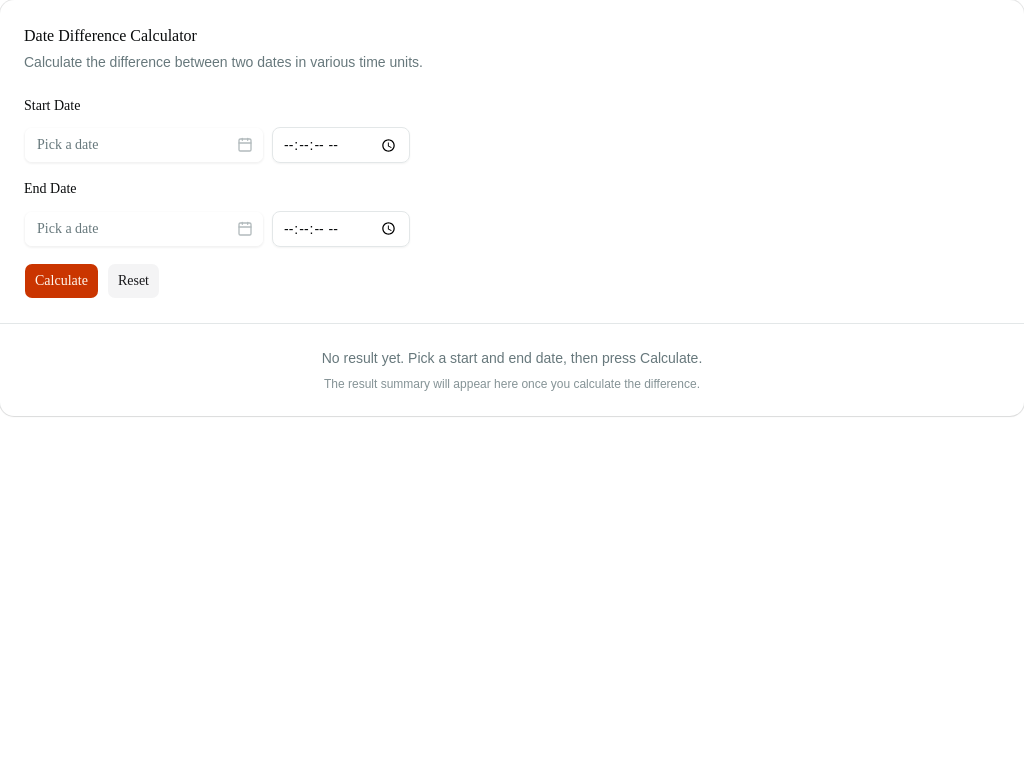
Scenario: DateDifference › onSubmit success › shows zero duration for same day selected twice
Step 1. Click the button with id "calendar-startDate" → (144, 145), box [24, 127, 264, 163]
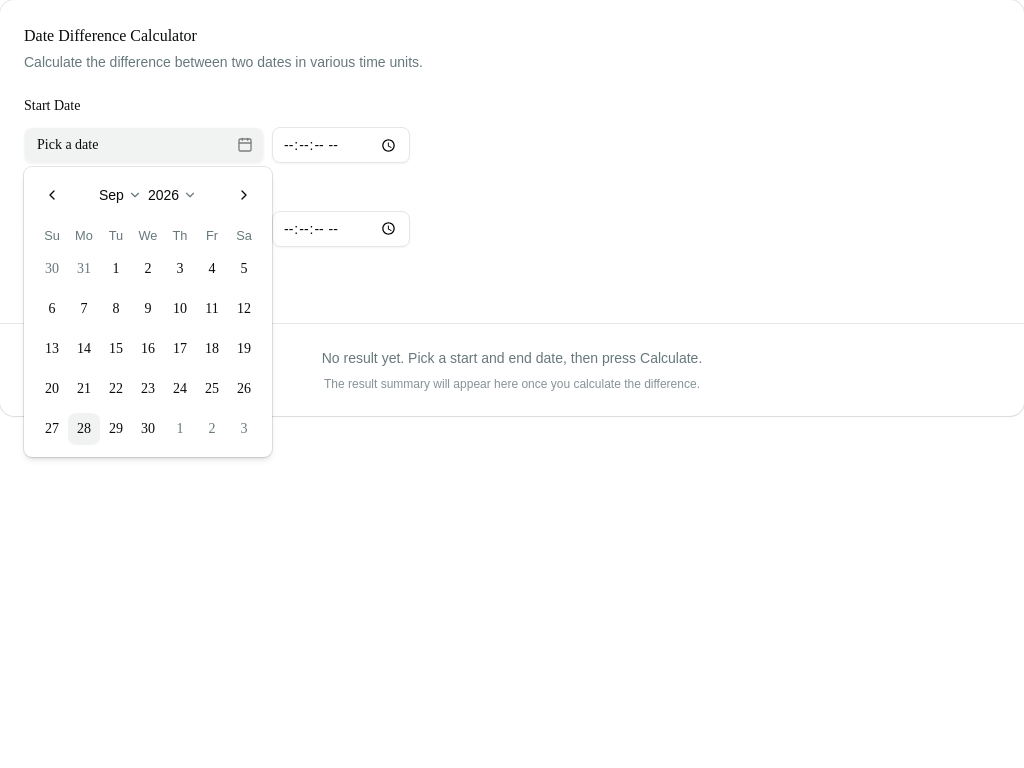
Step 2. Click the 1st button "30" → (52, 269), box [36, 253, 68, 285]
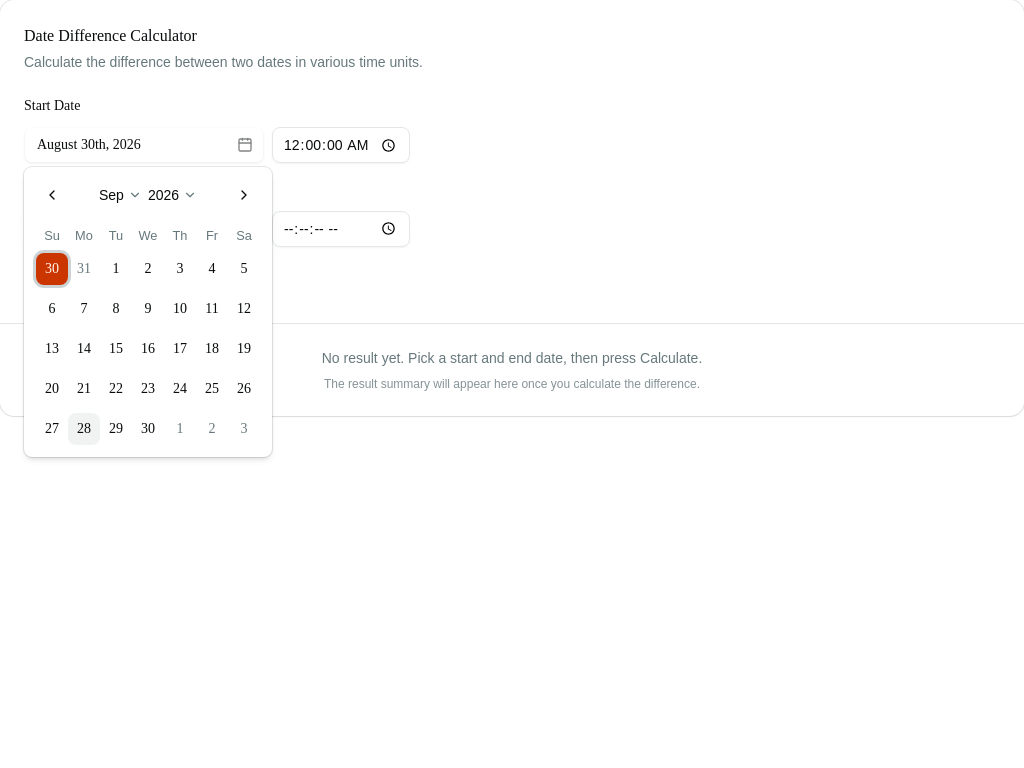
Step 3. Click the button with id "calendar-endDate" → (144, 228), box [24, 210, 264, 246]
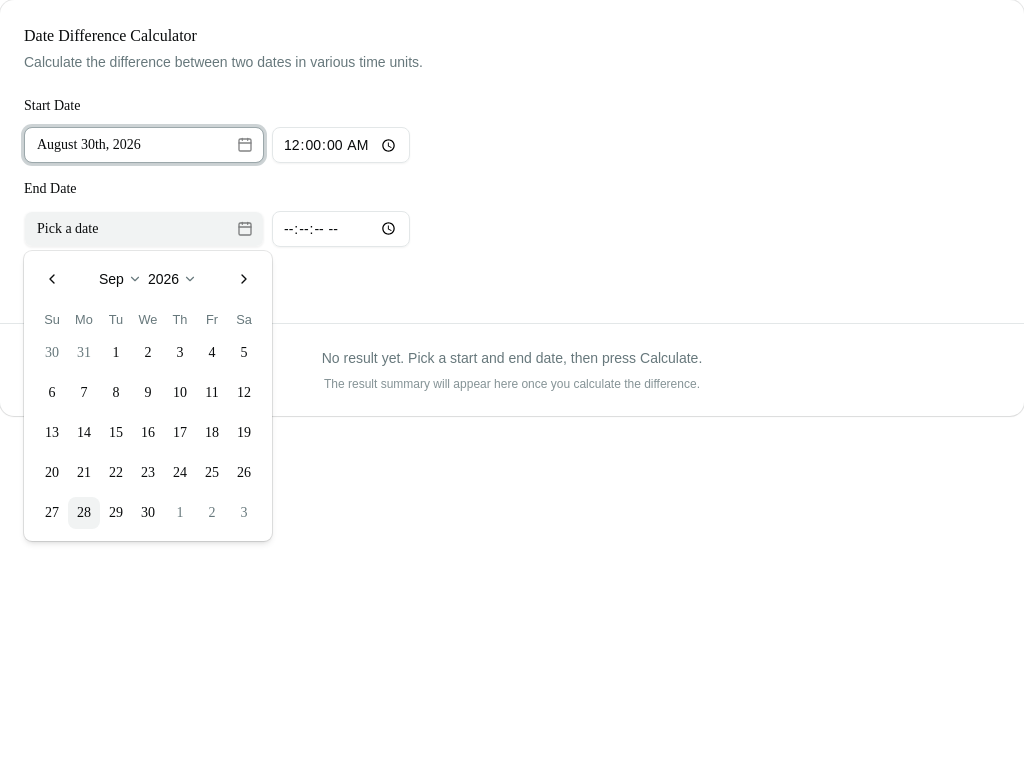
Step 4. Click the 1st button "30" → (52, 353), box [36, 337, 68, 369]
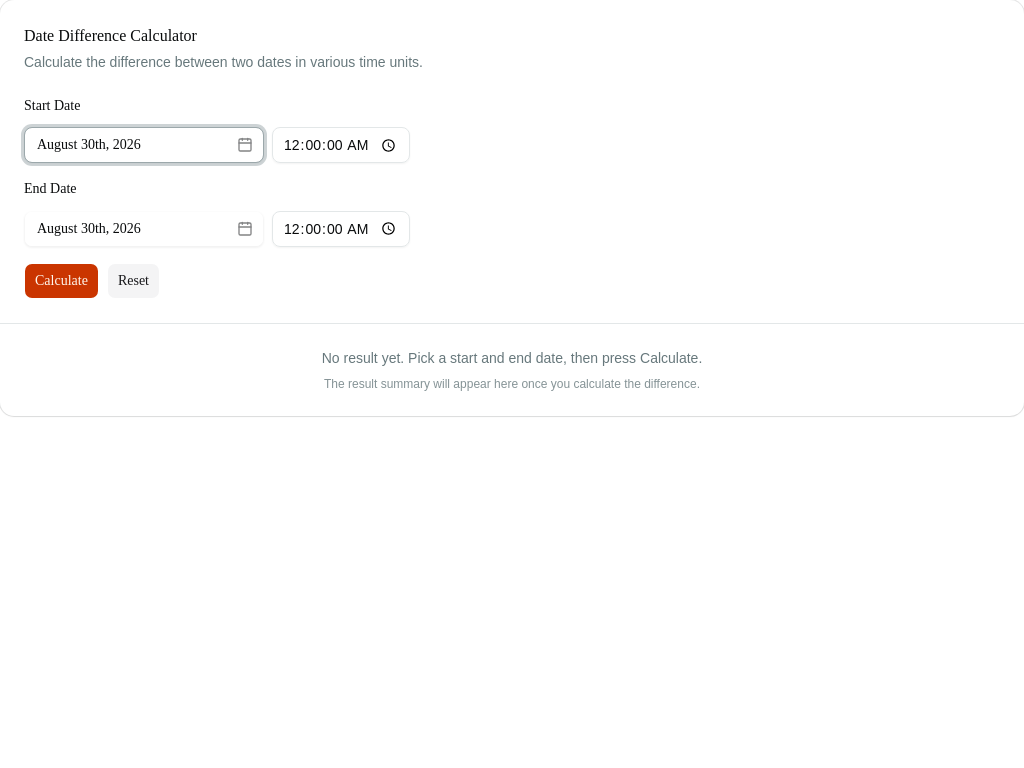
Step 5. Click the button with aria-label "calculate difference" → (61, 280), box [24, 262, 99, 298]
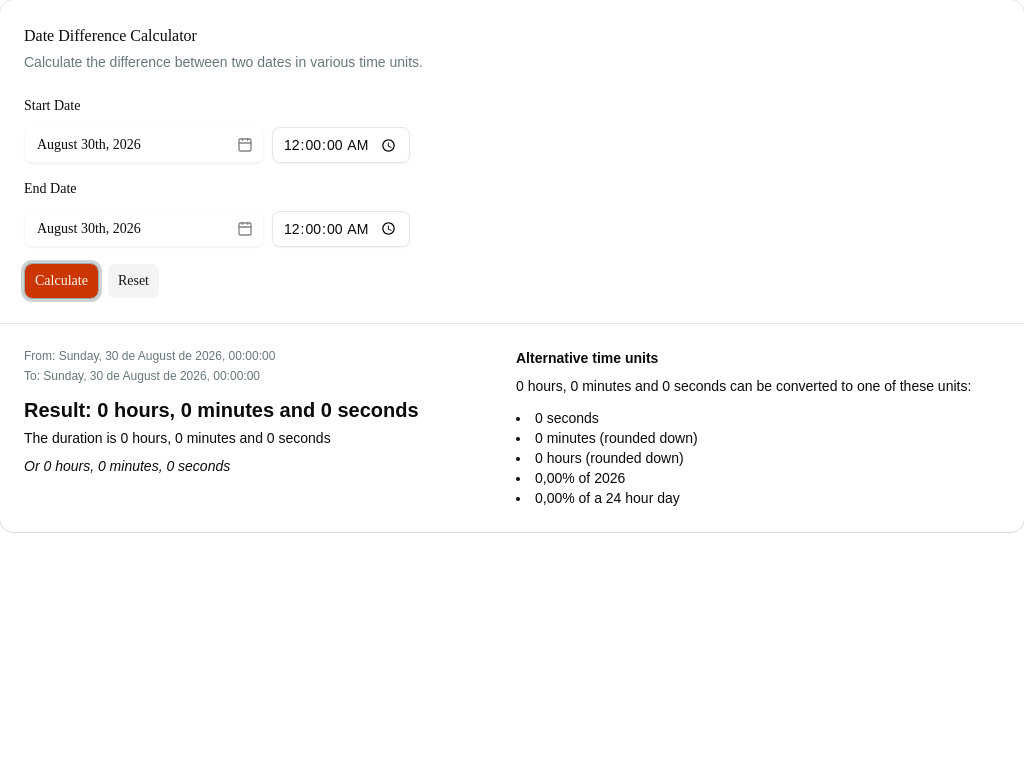
Expected: the text "Result: 0 hours, 0 minutes and 0 seconds" is shown, [24, 398, 418, 420]
Expected: the list item "0 seconds" is shown, [535, 410, 599, 426]
